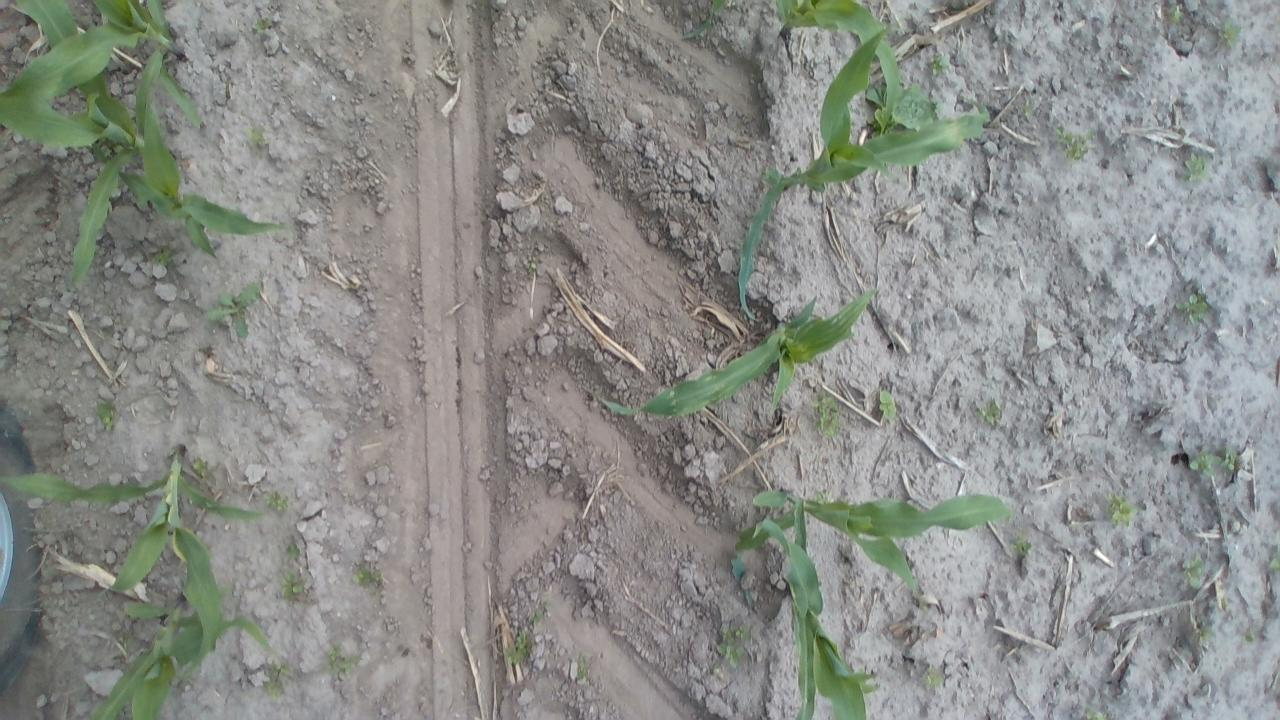Maize: (738, 26, 998, 330), (0, 443, 272, 694), (25, 39, 291, 281), (593, 280, 884, 426), (735, 481, 1014, 624), (0, 0, 209, 185), (742, 491, 874, 720), (86, 589, 277, 718), (770, 0, 909, 142), (678, 0, 728, 43)
Weeds: (864, 85, 936, 136), (202, 280, 262, 338), (1051, 122, 1097, 164), (808, 390, 845, 439), (714, 626, 749, 674), (688, 2, 726, 43), (1102, 490, 1139, 529), (1176, 289, 1212, 327), (324, 644, 362, 677), (348, 561, 388, 592), (261, 658, 290, 700), (504, 629, 534, 666), (280, 566, 310, 601), (1179, 552, 1206, 588), (977, 396, 1005, 428), (1182, 153, 1210, 185), (1188, 446, 1218, 475), (93, 400, 119, 432), (148, 239, 176, 268), (1216, 18, 1243, 48), (528, 598, 556, 626), (877, 389, 900, 422), (243, 122, 270, 150), (188, 454, 214, 482), (572, 652, 594, 682), (1218, 445, 1240, 474), (923, 662, 947, 688), (924, 52, 953, 73), (284, 536, 308, 560), (264, 490, 290, 512), (1021, 88, 1036, 126), (1076, 705, 1116, 719), (250, 14, 274, 36), (1165, 4, 1189, 25), (1012, 534, 1032, 559), (118, 628, 136, 655), (1196, 623, 1218, 645), (522, 256, 540, 280), (812, 485, 834, 504), (1239, 628, 1258, 646), (1264, 553, 1276, 577)
